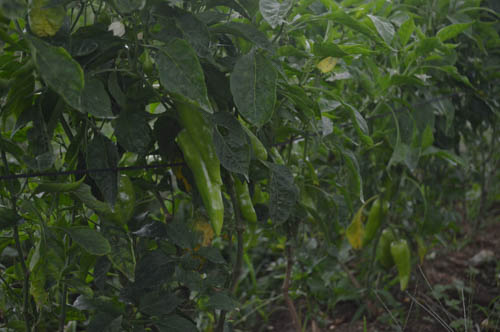ChiliPepper: (174, 139, 224, 231), (179, 94, 229, 181), (390, 242, 410, 285), (367, 200, 384, 243)
